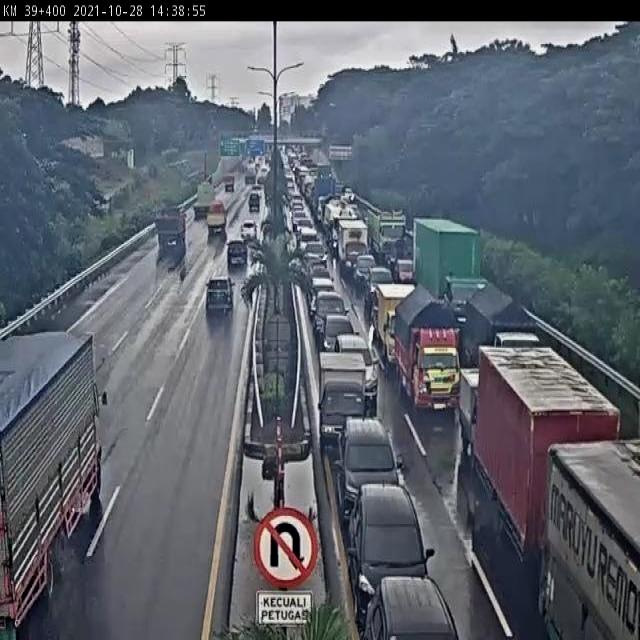Car: (349, 487, 424, 580), (337, 421, 402, 522), (370, 568, 451, 640), (332, 334, 376, 392), (322, 312, 353, 348), (205, 278, 233, 315), (314, 291, 346, 323), (367, 266, 394, 294), (353, 252, 375, 285), (229, 234, 250, 266), (240, 220, 256, 240), (248, 191, 260, 209), (225, 175, 235, 190), (253, 177, 262, 190)
Truck: (0, 342, 128, 622), (541, 440, 638, 637), (390, 286, 462, 414), (413, 218, 479, 298), (461, 283, 539, 348), (317, 352, 363, 446), (369, 282, 415, 371), (366, 208, 406, 268), (154, 204, 188, 261), (334, 218, 366, 268), (312, 166, 337, 208), (195, 182, 216, 222), (207, 199, 227, 235)
